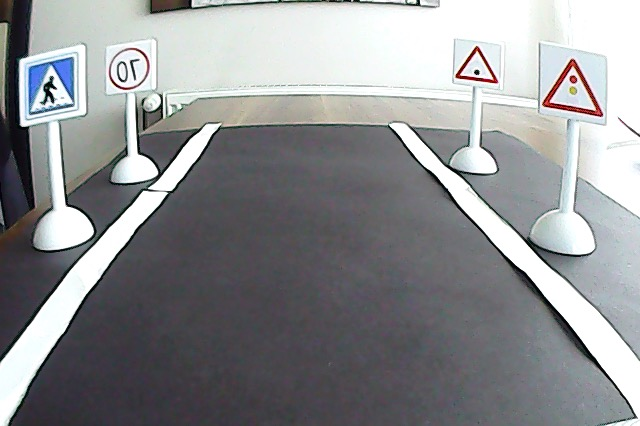green light: (138, 45, 187, 82)
pedestrian crossing: (560, 51, 616, 124)
red light: (34, 59, 100, 115)
speed limit 70: (489, 43, 533, 91)
